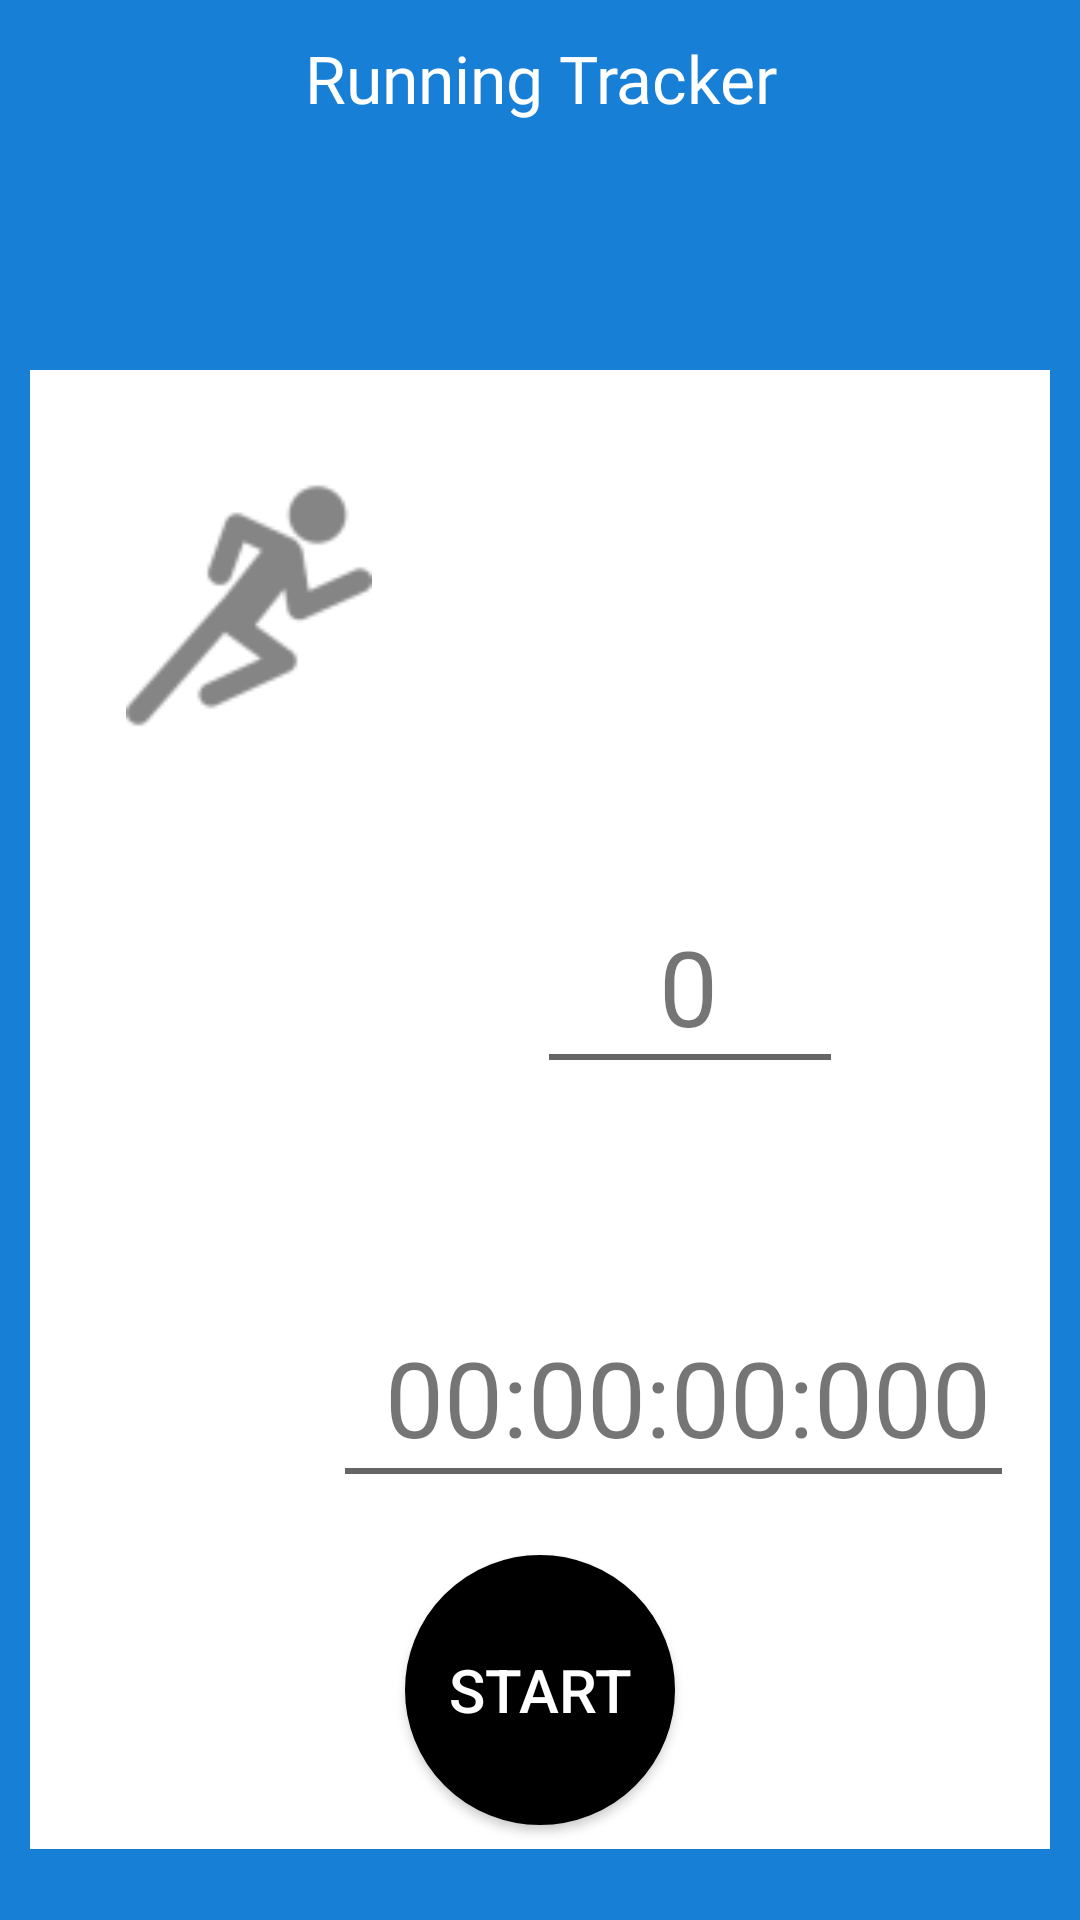

Icons on this 1080 x 1920 Android screen, each with the point to tap as (x=x, y=y):
running: (x=249, y=605)
